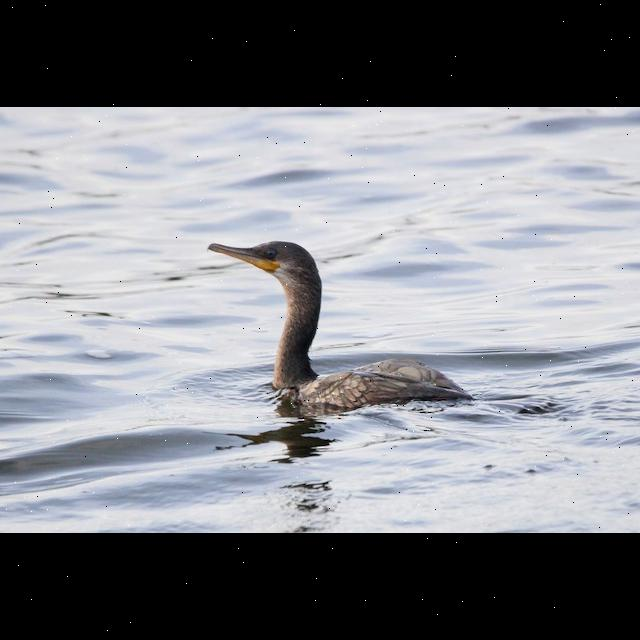cormorant: (196, 232, 482, 418)
